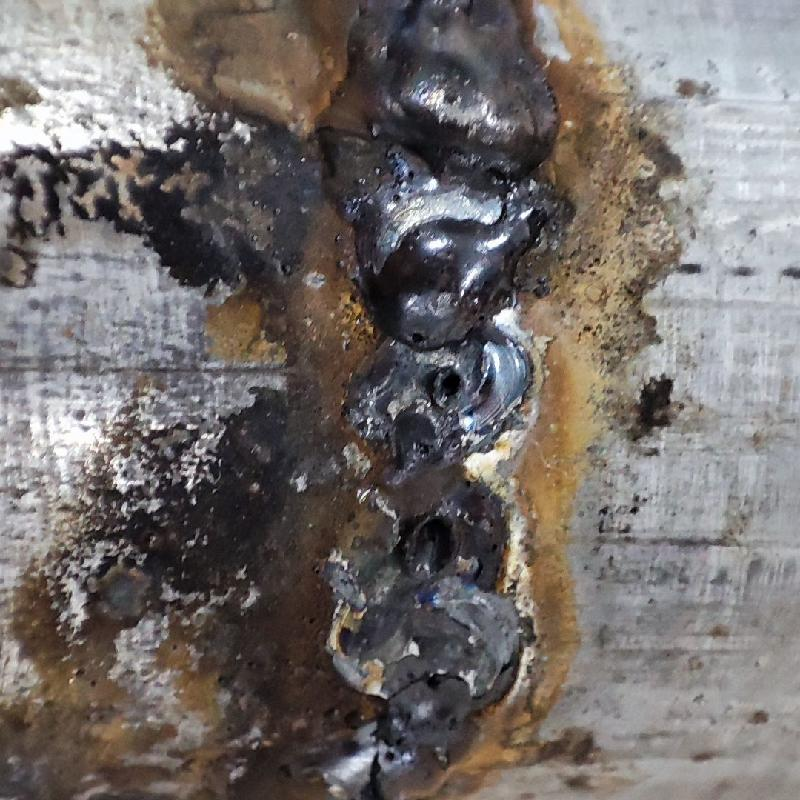Not_fully_soldered: (318, 356, 542, 689)
Surface_pores: (425, 363, 475, 410), (386, 317, 443, 352)
Weld: (305, 2, 573, 353), (323, 687, 498, 795)
